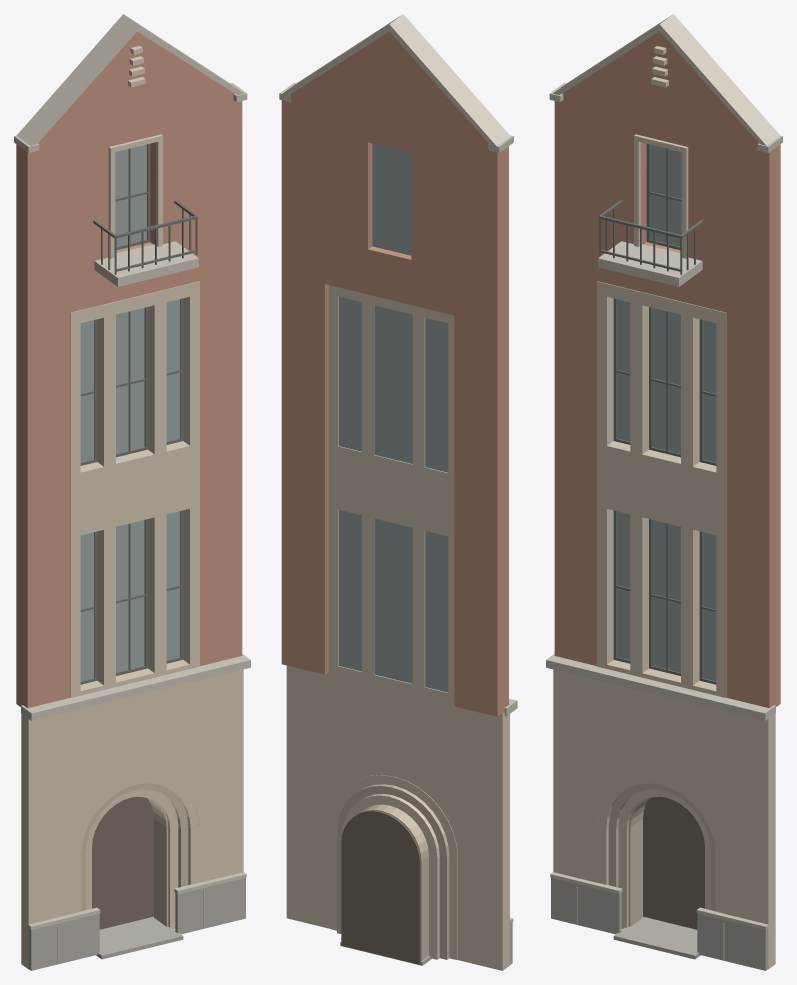
File: jingan-science-hall-school-arched-entrance-lod.glb
3 renders of one model, left to right at view 1: azimuth 30°, elevation 25°; view 2: azimuth 150°, elevation 25°; view 3: azimuth 330°, elevation 25°, orthographic.
Parts seen in each view (by area): view 1: 上海市科学馆（市立实验民众学校旧址）1号楼石券门与山墙小阳台; view 2: 上海市科学馆（市立实验民众学校旧址）1号楼石券门与山墙小阳台; view 3: 上海市科学馆（市立实验民众学校旧址）1号楼石券门与山墙小阳台.
Part boxes in pixels (x1,y1,x2,y2): 上海市科学馆（市立实验民众学校旧址）1号楼石券门与山墙小阳台: (14,14,250,970); 上海市科学馆（市立实验民众学校旧址）1号楼石券门与山墙小阳台: (279,14,517,970); 上海市科学馆（市立实验民众学校旧址）1号楼石券门与山墙小阳台: (546,14,782,970).
Size of the model in its own units: 4.49 by 18.03 by 1.56.
